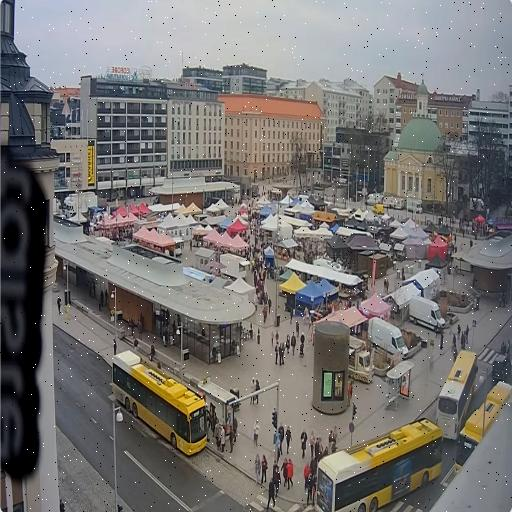Bus: (313, 418, 442, 511), (111, 351, 206, 455), (455, 382, 511, 473), (436, 350, 476, 439)
Delivery: (368, 318, 407, 358), (408, 297, 444, 332), (348, 336, 372, 383), (491, 353, 511, 385)
